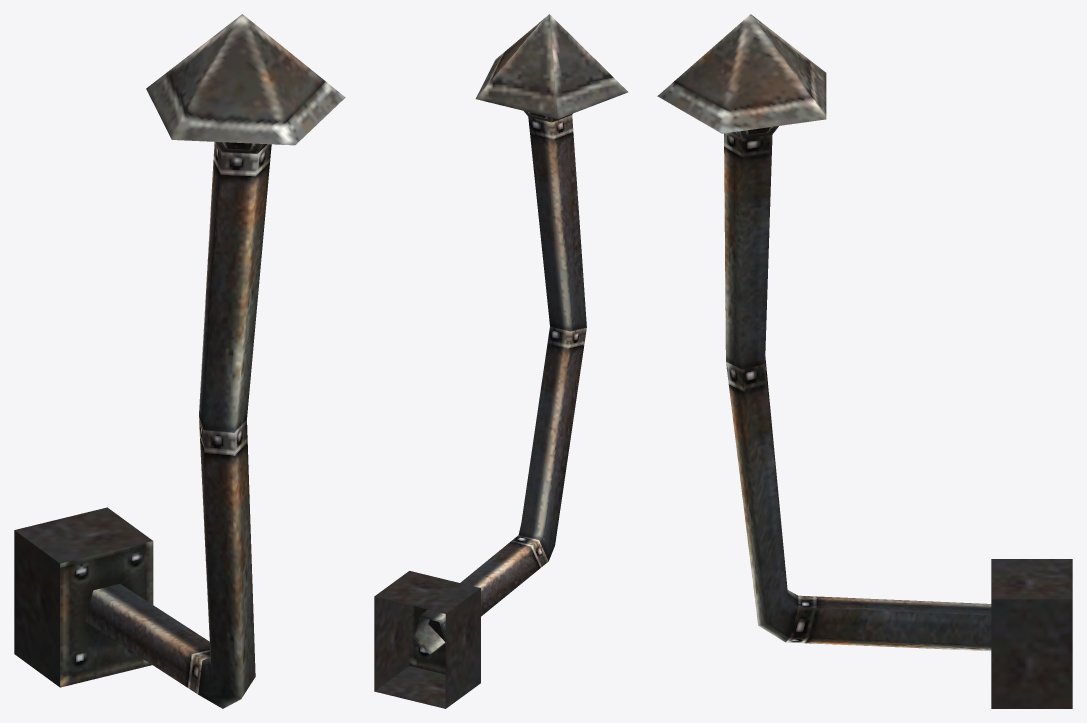
File: loc2_32.glb
3 renders of one model, left to right at view 1: azimuth 30°, elevation 25°; view 2: azimuth 150°, elevation 25°; view 3: azimuth 270°, elevation 25°, orthographic. The views are drawn at different scales.
Visible parts, largest first — view 1: loc2_32-col; view 2: loc2_32-col; view 3: loc2_32-col.
Part boxes in pixels (left/top/right/bottom): loc2_32-col: left=14, top=14, right=345, bottom=708; loc2_32-col: left=374, top=14, right=628, bottom=708; loc2_32-col: left=657, top=14, right=1072, bottom=708.
Size of the model in its own units: 1.22 by 5.1 by 2.85.
Materials: 1 (1 with a texture image).
